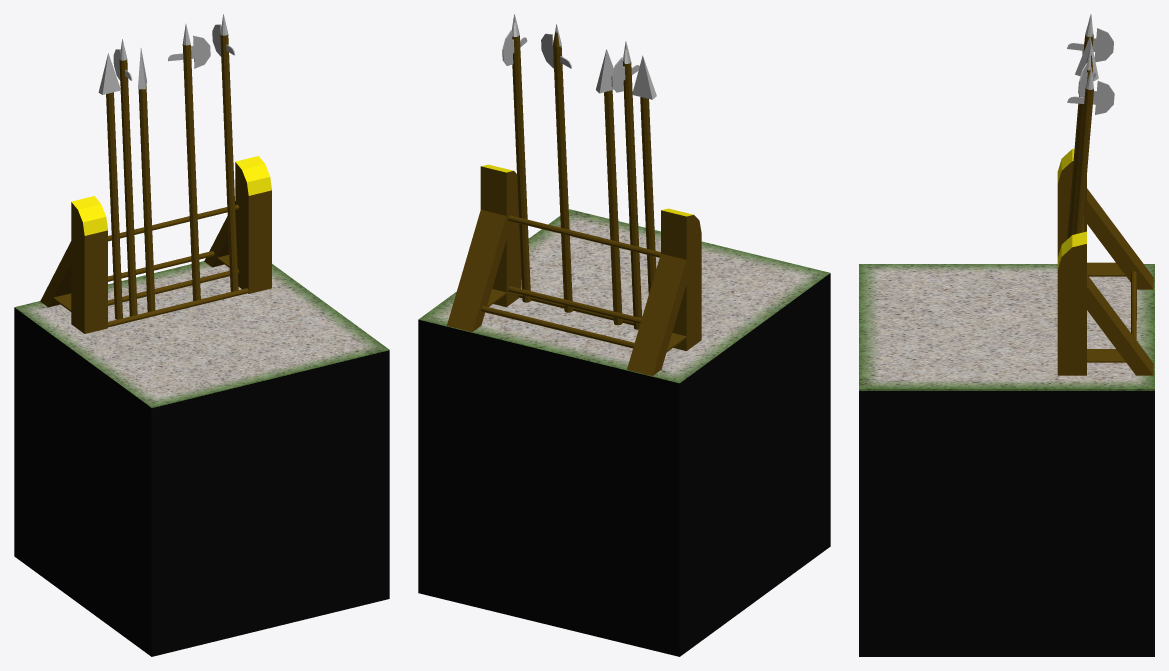
The model's file is Waffenhalter.fbx.
3 views of the same model, side by side, from view 1: azimuth 30°, elevation 25°; view 2: azimuth 150°, elevation 25°; view 3: azimuth 270°, elevation 25° (orthographic). The views are drawn at different scales.
Parts seen in each view (by area): view 1: Weaponrackkomplett; view 2: Weaponrackkomplett; view 3: Weaponrackkomplett.
Part boxes in pixels (x1,y1,x2,y2): Weaponrackkomplett: (14,14,389,656); Weaponrackkomplett: (418,14,830,656); Weaponrackkomplett: (859,14,1154,656).
Bounding box in the file's own units: 200 × 417 × 200.
2 materials, 2 textured.
